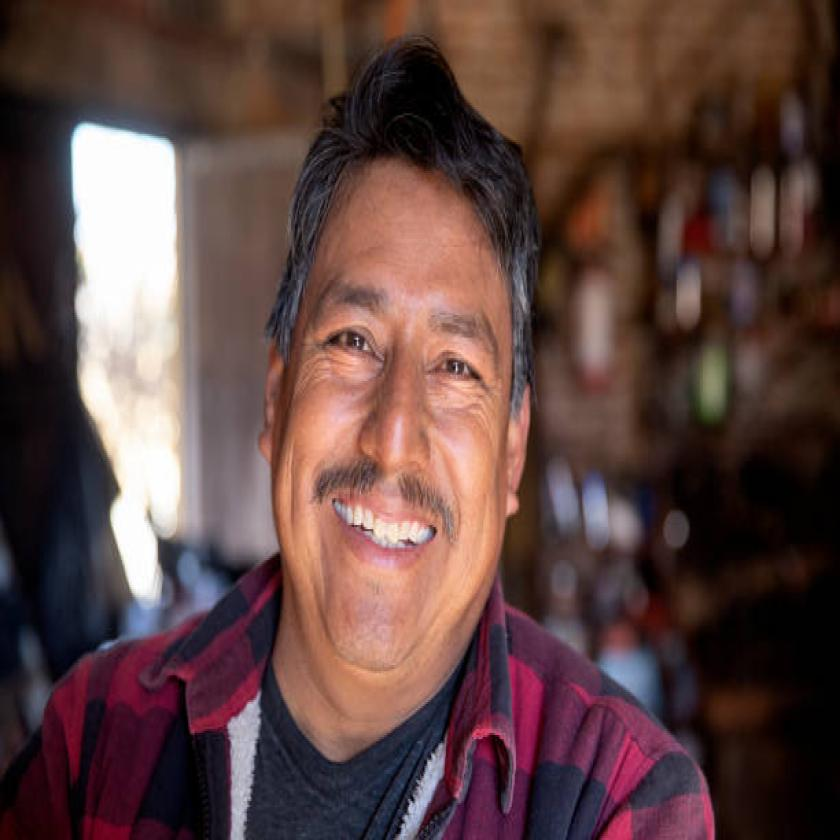Sin_casco: (270, 33, 545, 698)
